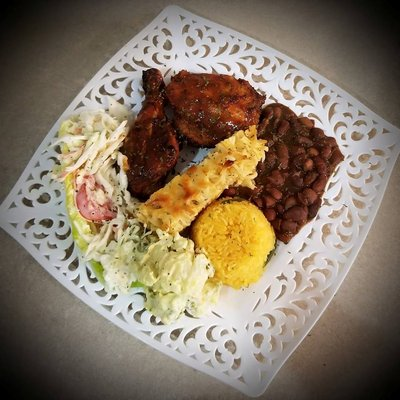curry: (0, 0, 393, 387)
